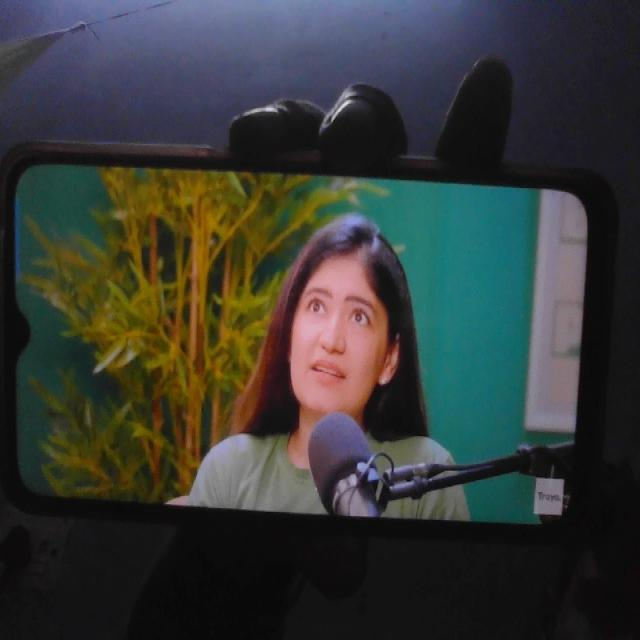fake: (291, 209, 400, 415)
